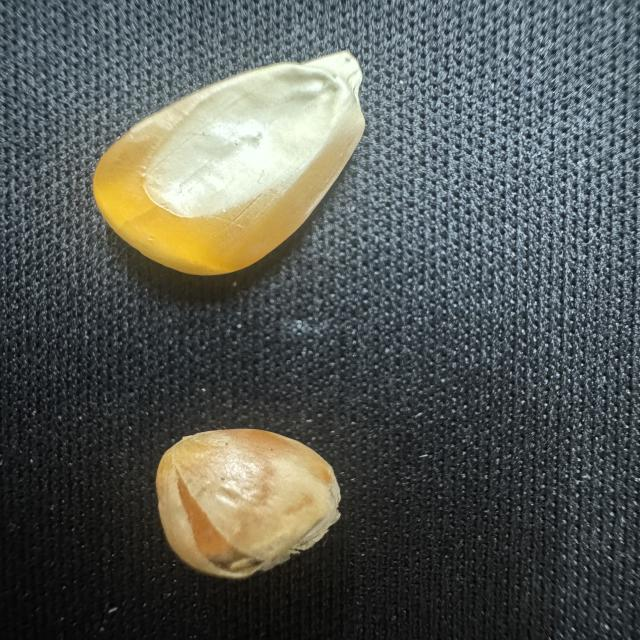Bad-Seed: (144, 422, 356, 583)
Good-Seed: (86, 47, 376, 278)
